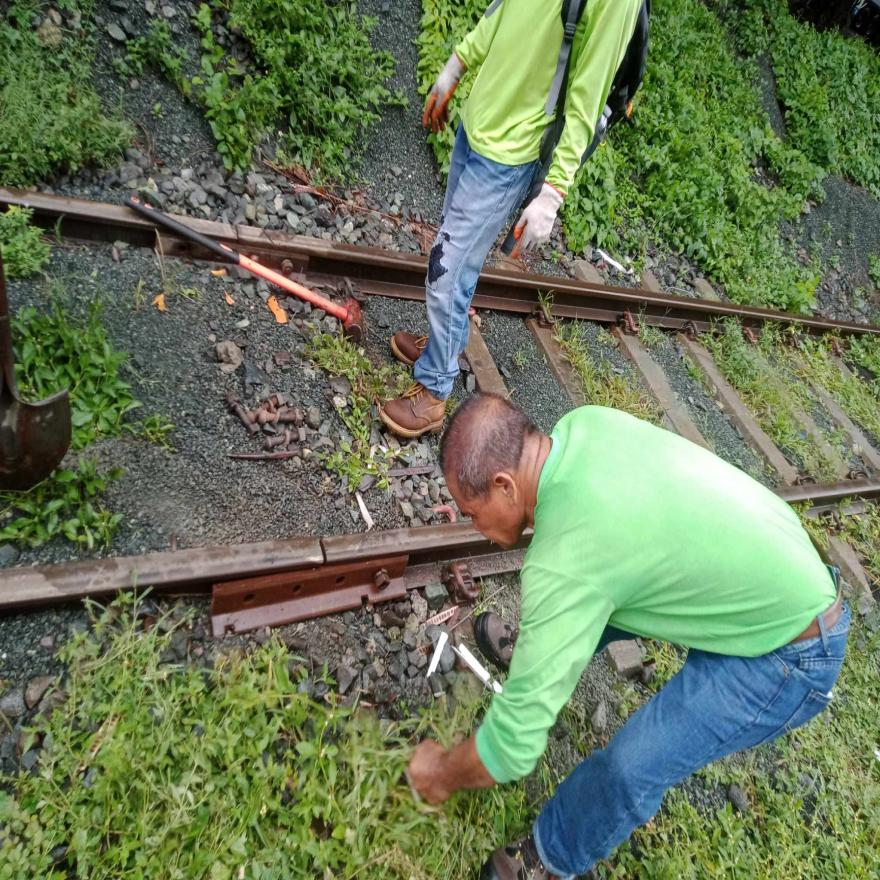railway-gap: (294, 507, 357, 590), (222, 211, 255, 255)
